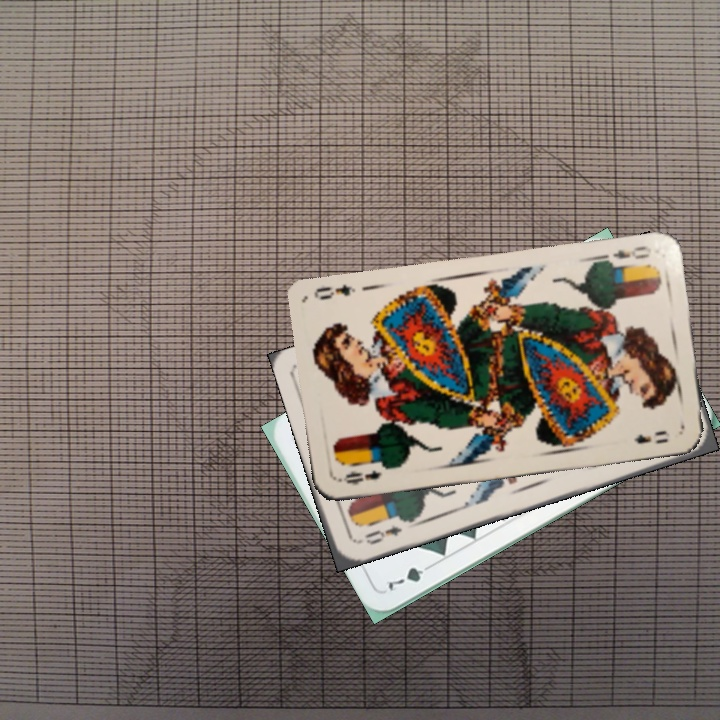EO: (598, 241, 654, 270), (360, 521, 405, 548), (335, 466, 383, 487)
G7: (384, 559, 437, 594)
